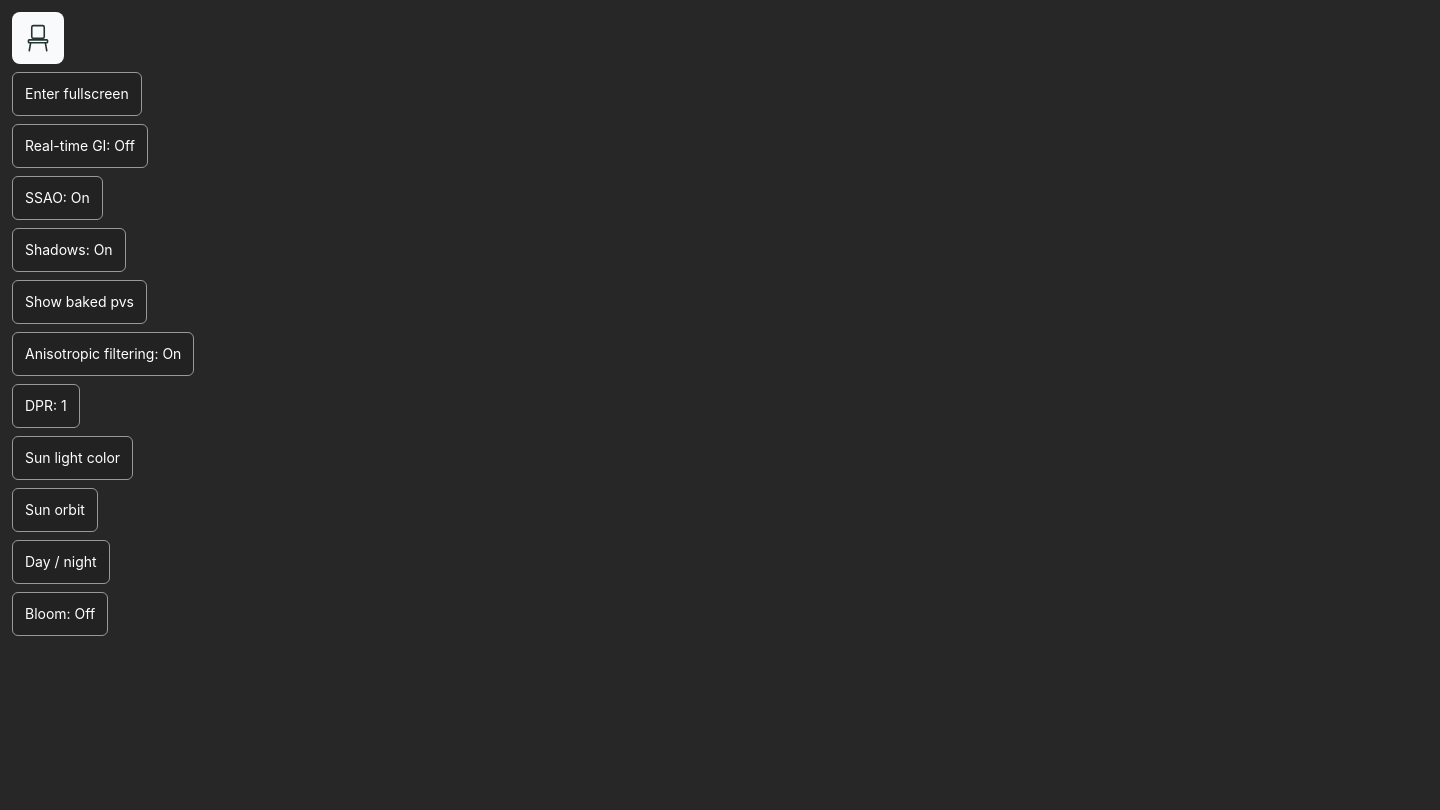
Test: pending requests disable repeated taps until the browser responds
The width and height of the screenshot is (1440, 810).
Click the button "Enter fullscreen" at [77, 94], box [12,72,142,116]
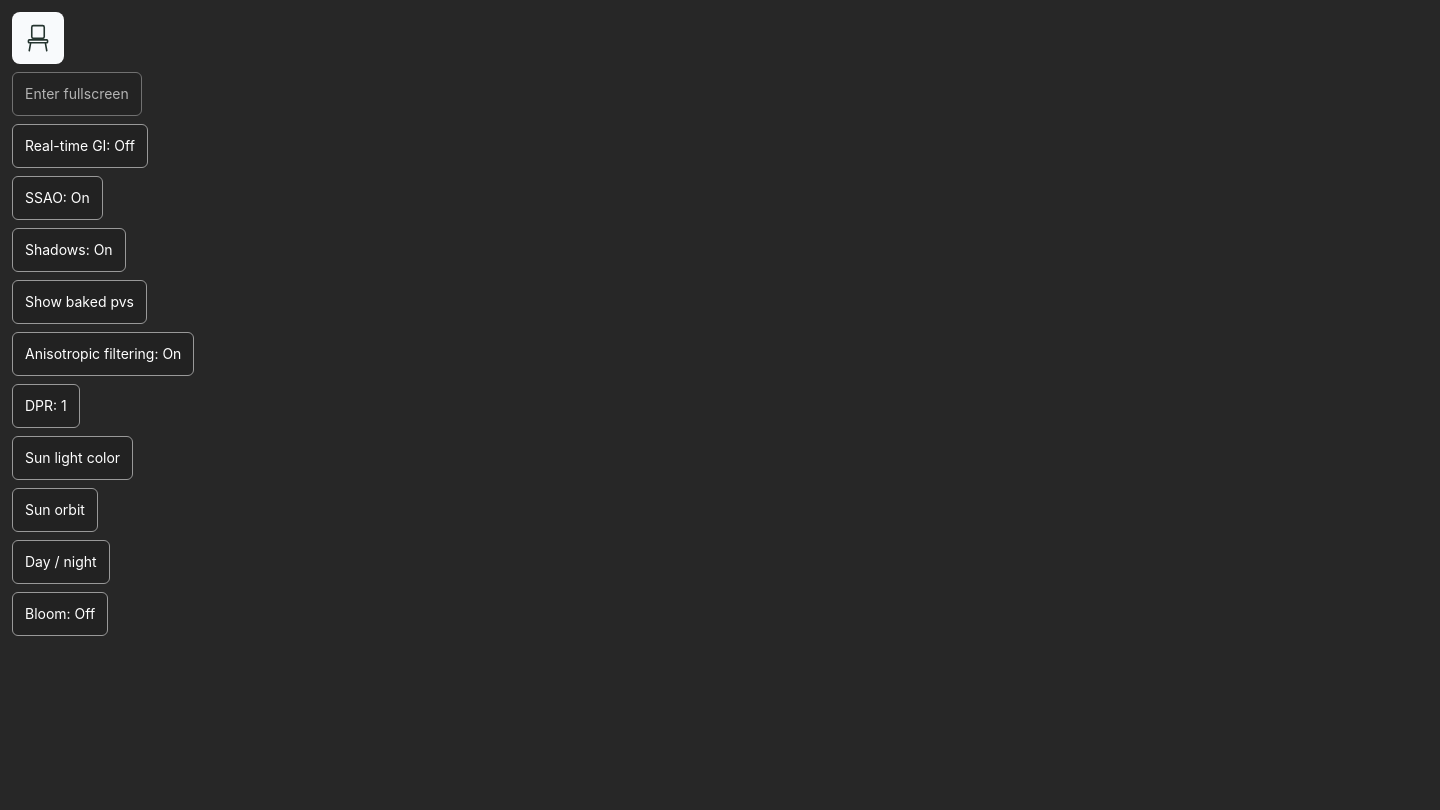
Expected: the button "Enter fullscreen" is disabled
Click the button "Enter fullscreen" at [77, 94], box [12,72,142,116]
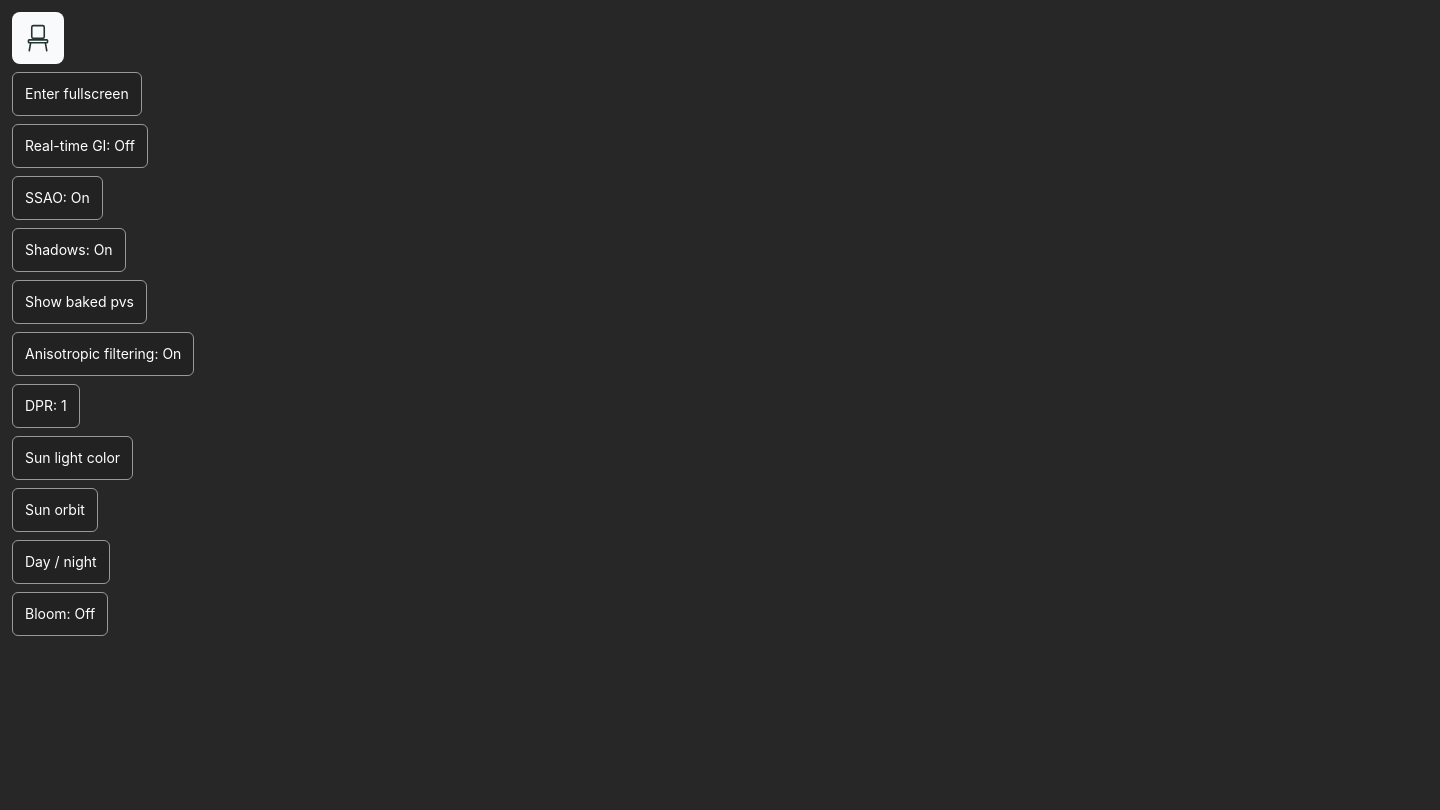
Expected: the button "Enter fullscreen" is enabled, [12,72,142,116]
